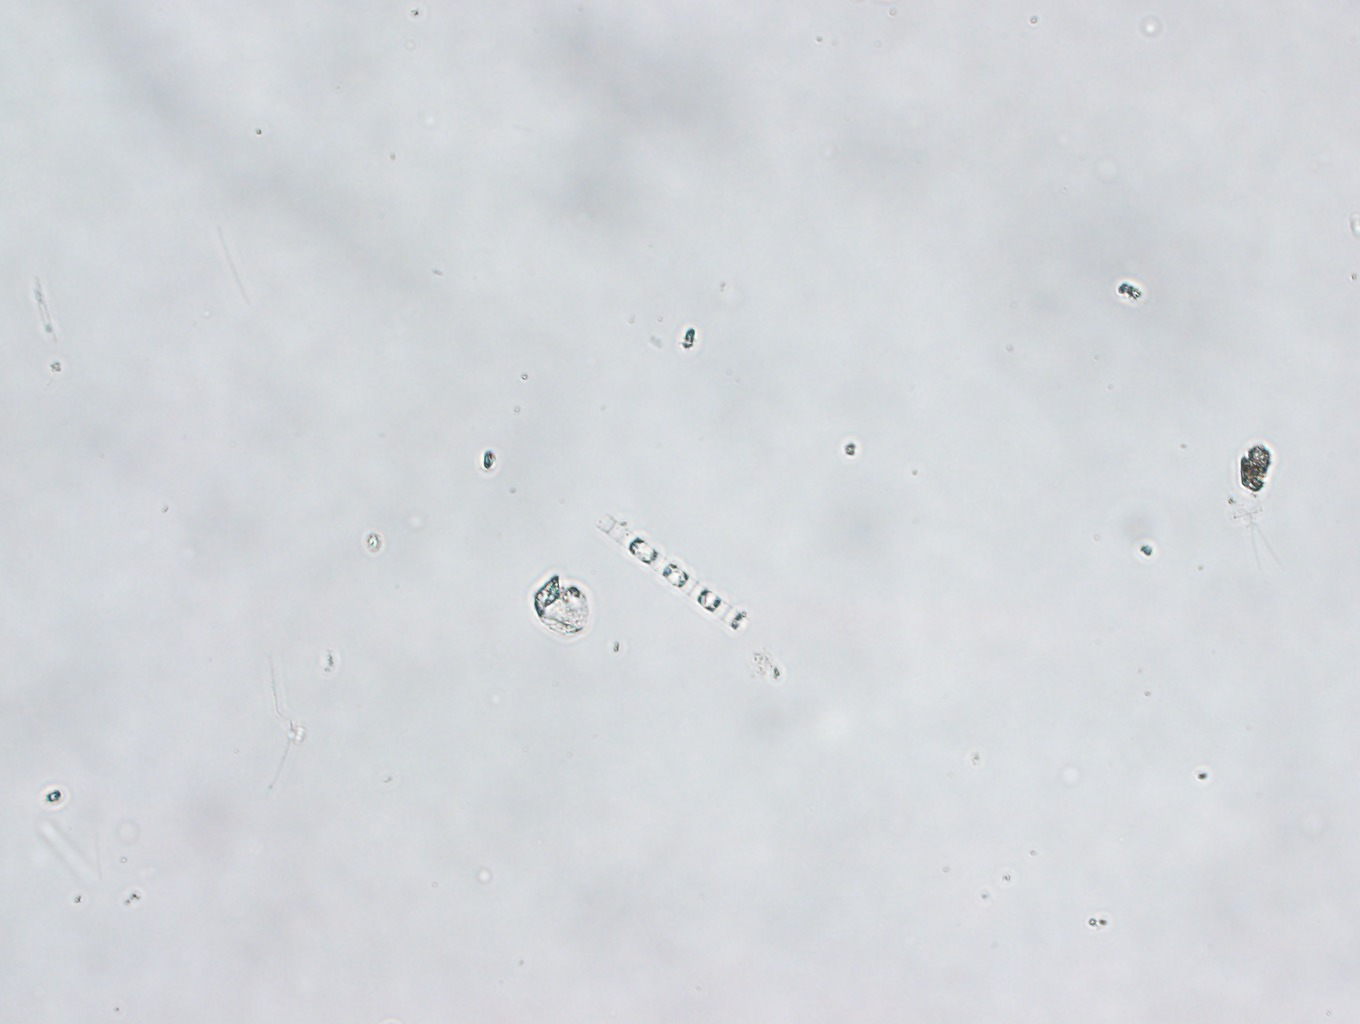skeletonema: (589, 513, 758, 637)
